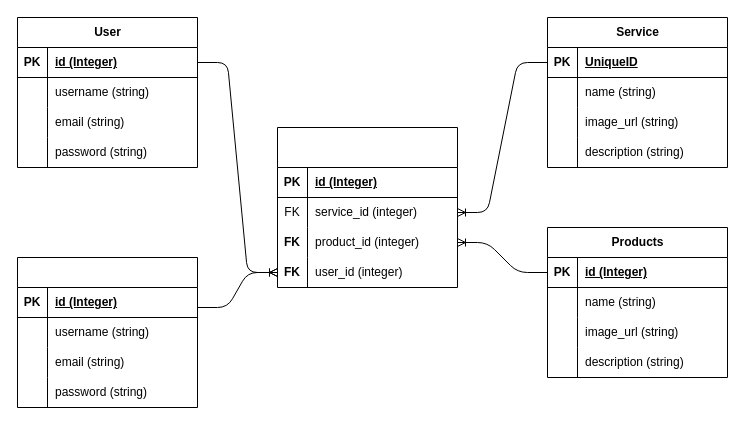
Image size: 745x425. Some labels were removed from this diagram. The shapes that lost their labels are listed below. From the top down, each one's box as (x1, y1, x2, y2) in pixels, then its label:
(276, 126, 458, 288): Order (conjungtion table)
(16, 256, 198, 408): User Admin
